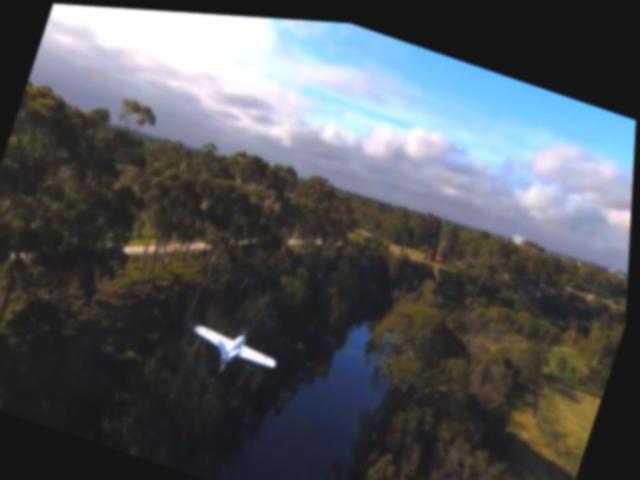uav: (186, 308, 289, 384)
